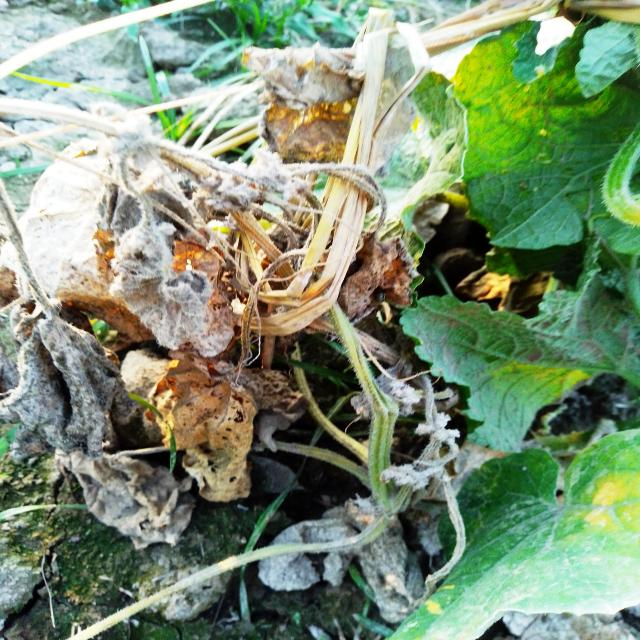Bacterial-Wilt: (0, 300, 139, 461)
